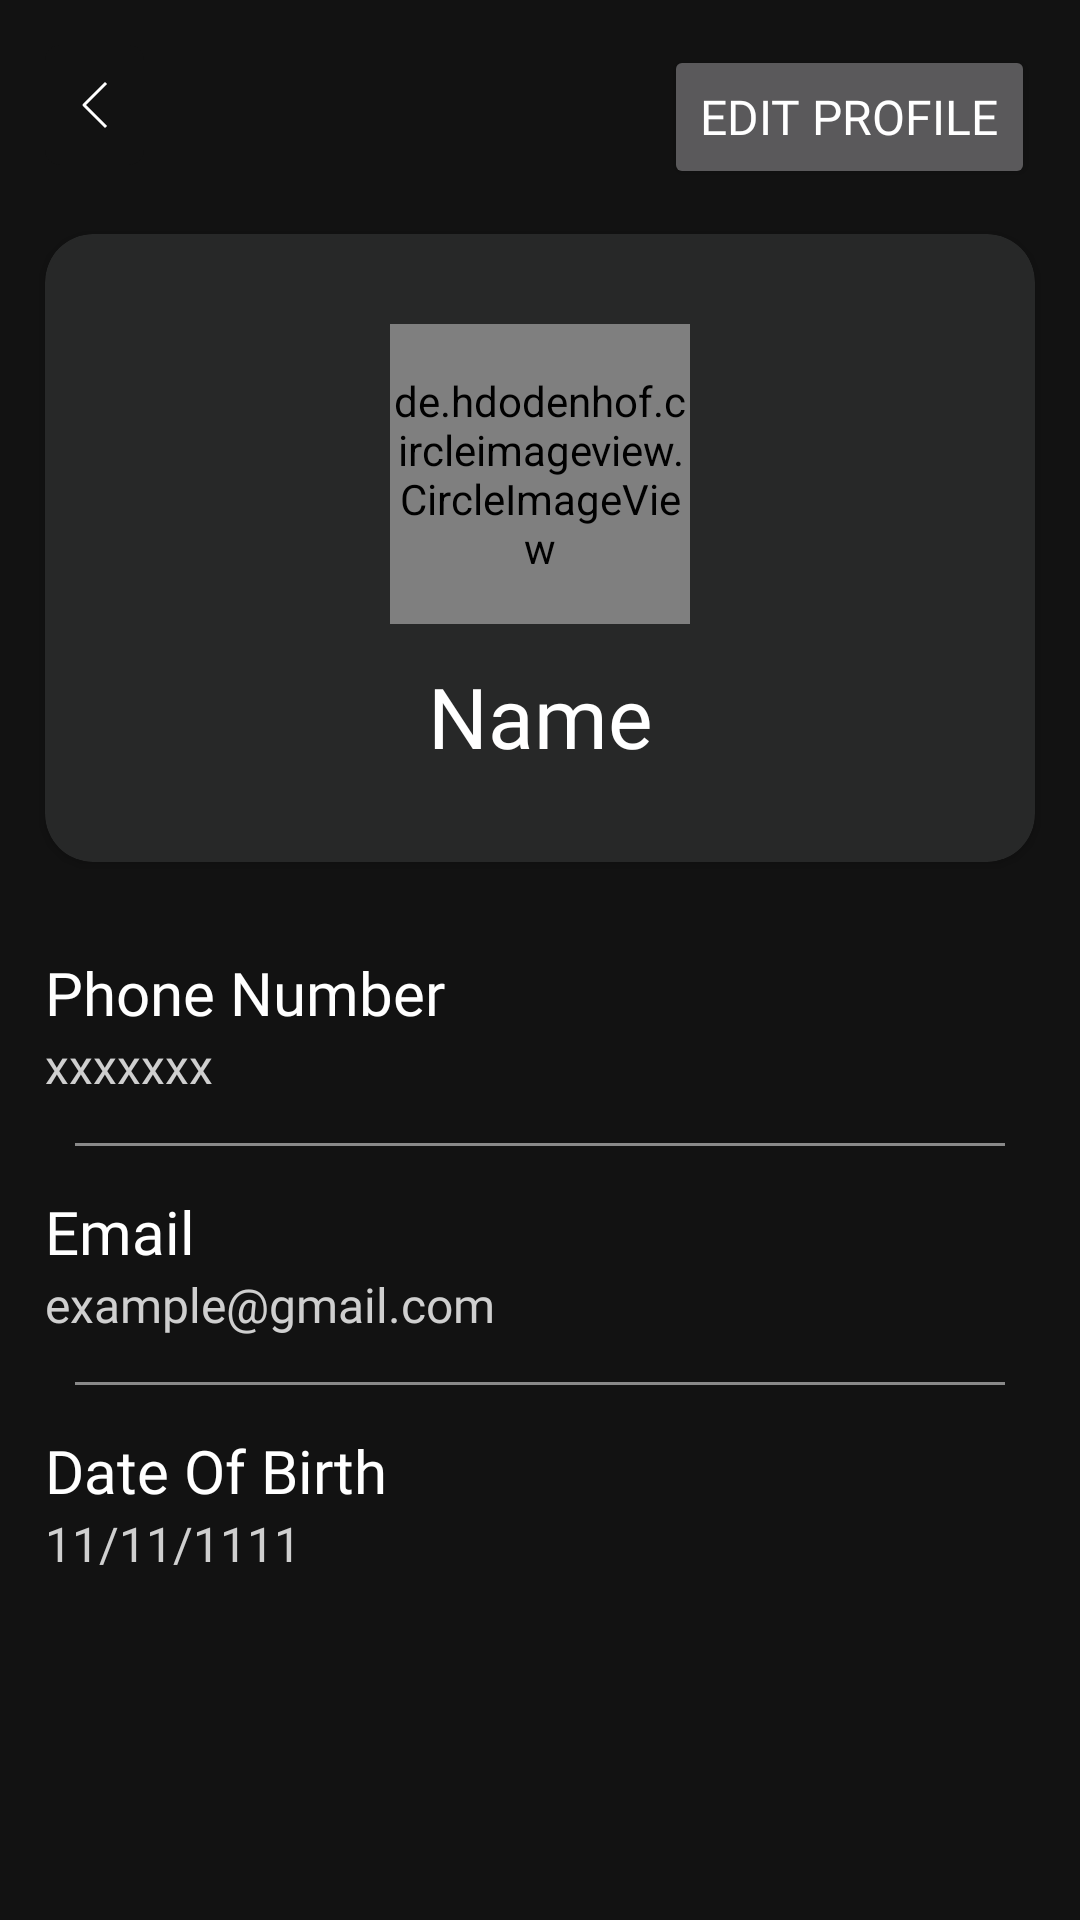

Where to tap for icons on this 1080px x 1920px app screen, as (x,y):
back: (94,105)
